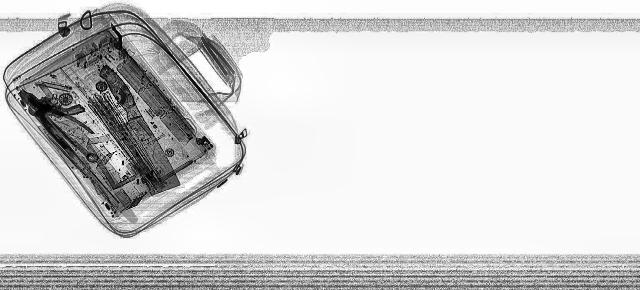Gun: (5, 83, 90, 123)
Knife: (72, 64, 186, 194)
Pliers: (1, 92, 101, 146)
